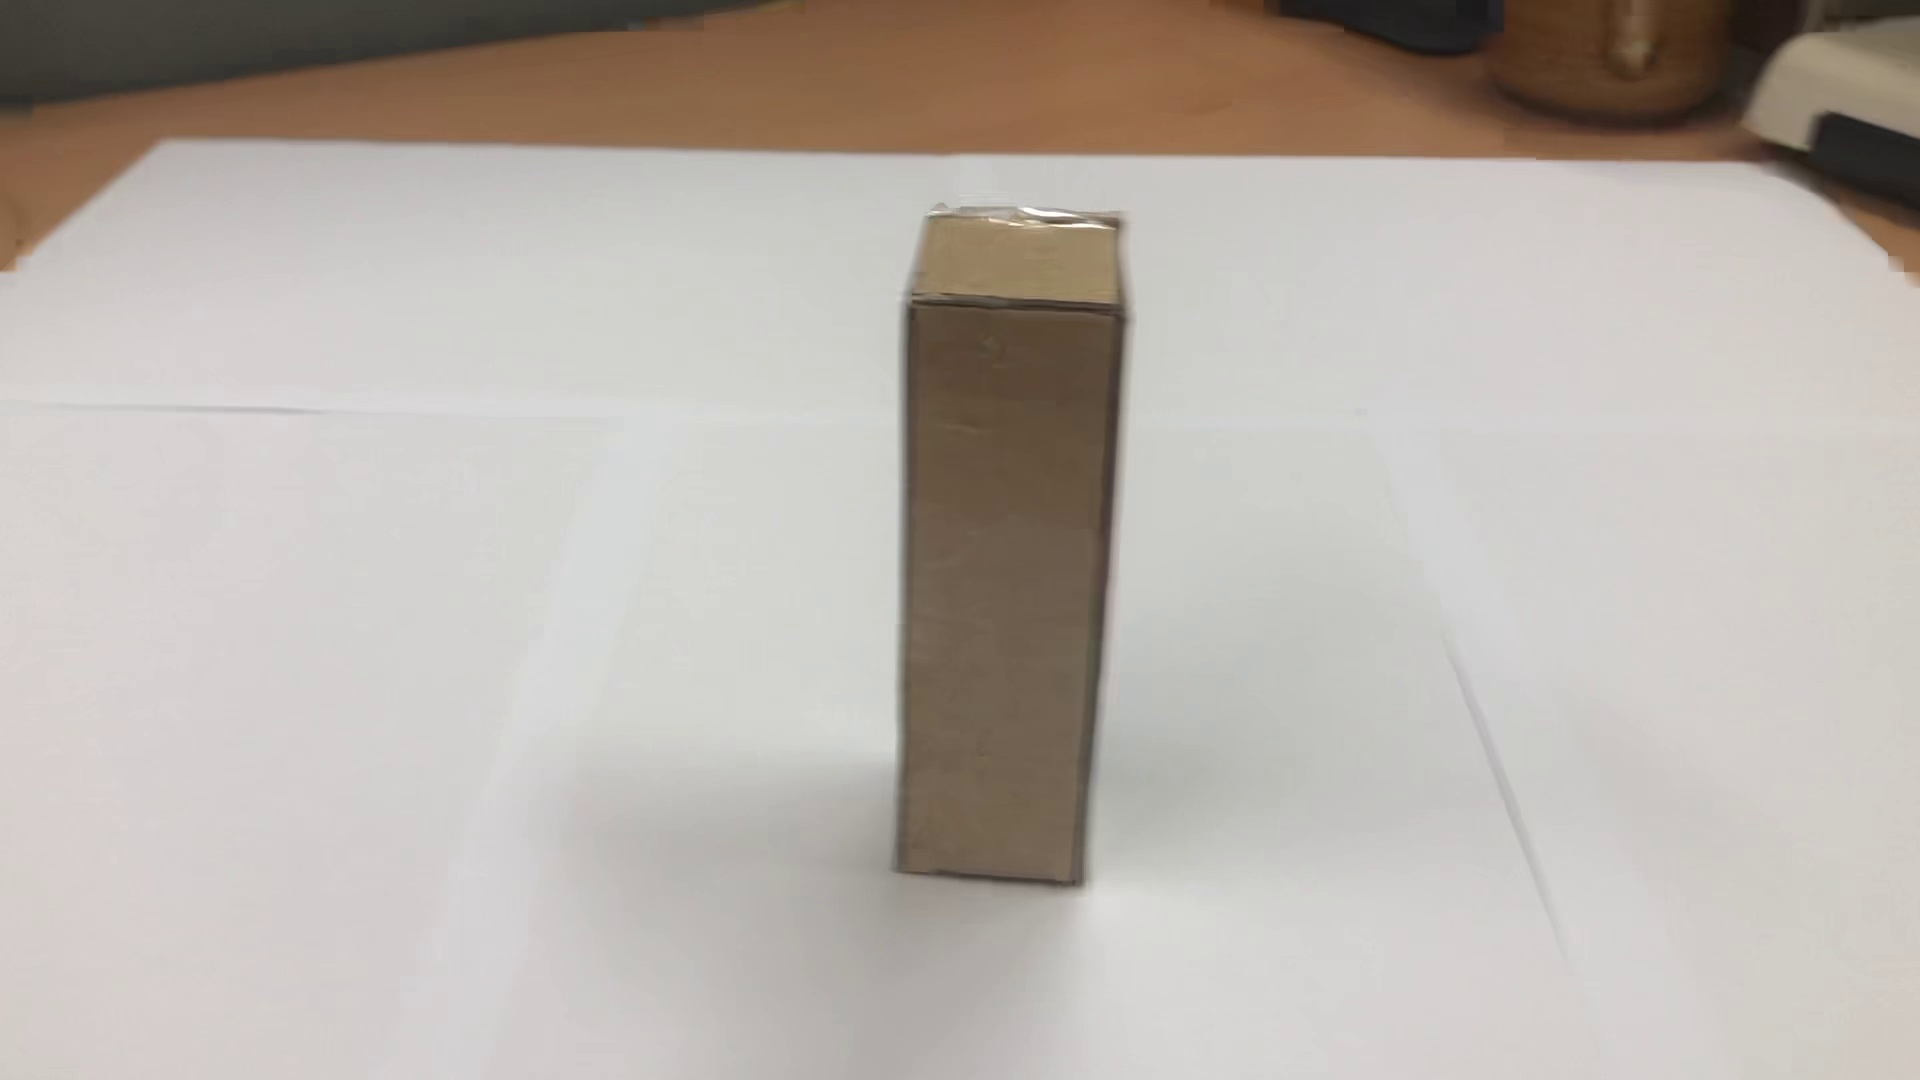box: (884, 185, 1143, 923)
